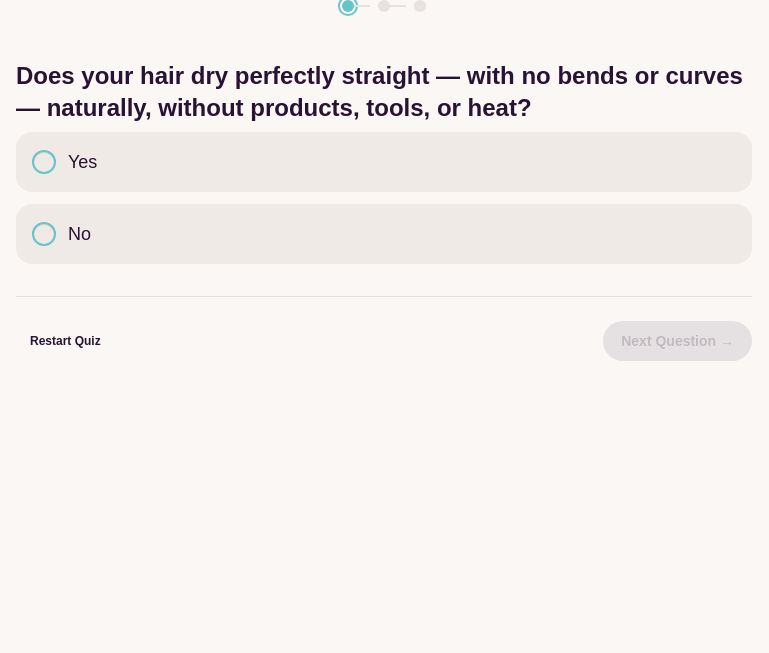
Scenario: NewQuiz Component › Quiz flow - Curls path › Curls path asks for shrinkage when no additional patterns
Expected: the heading "Does your hair dry perfectly straight" is shown, left=16, top=62, right=743, bottom=121
Step 1. Click the radio button labelled "No" → click(44, 234), box left=32, top=222, right=56, bottom=246
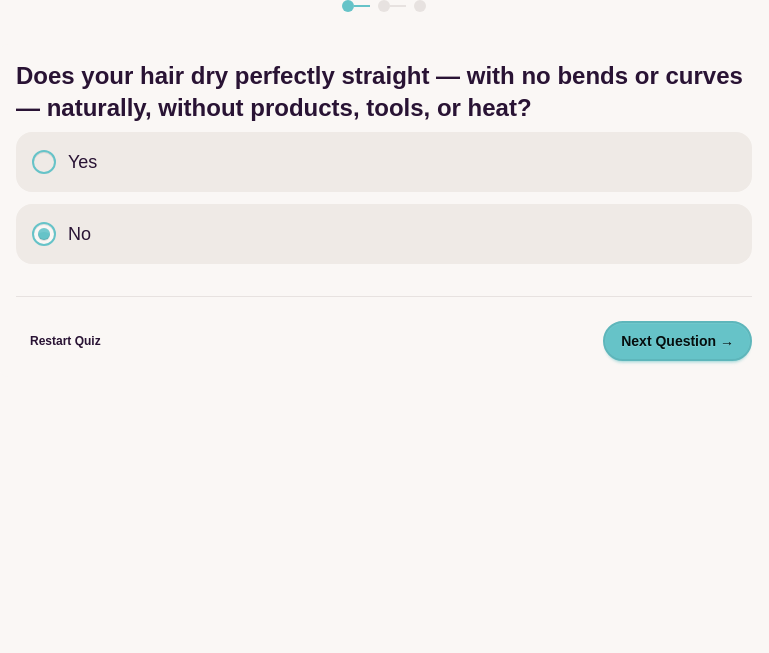
Step 2. Click the button "Next Question →" → click(678, 341), box left=603, top=321, right=752, bottom=361
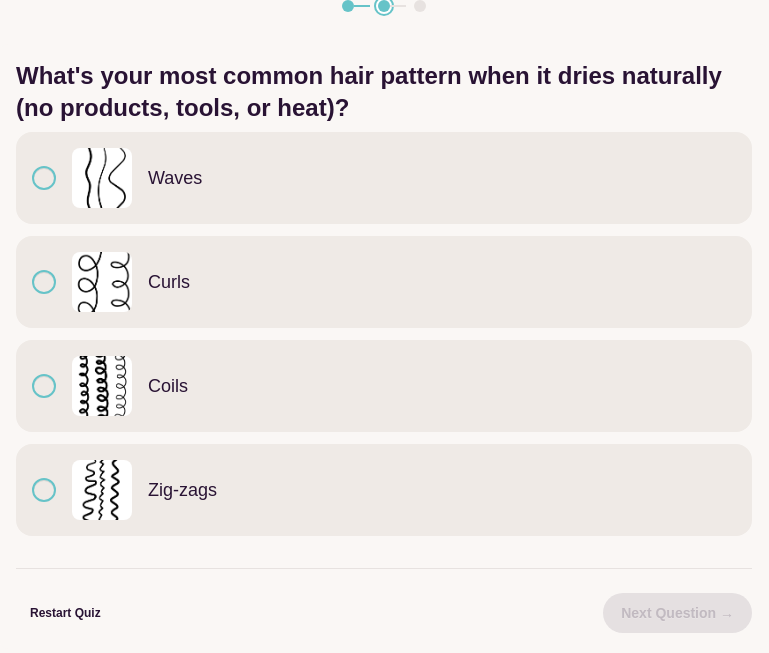
Expected: the heading "What's your most common hair pattern" is shown, left=16, top=62, right=722, bottom=121
Step 3. Click the radio button labelled "Curls" → click(44, 282), box left=32, top=270, right=56, bottom=294
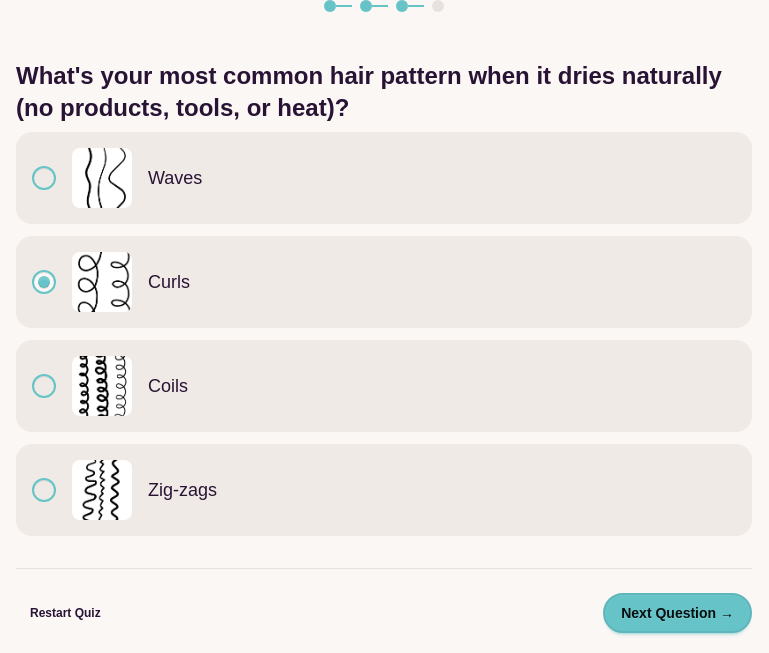
Step 4. Click the button "Next Question →" → click(678, 613), box left=603, top=593, right=752, bottom=633
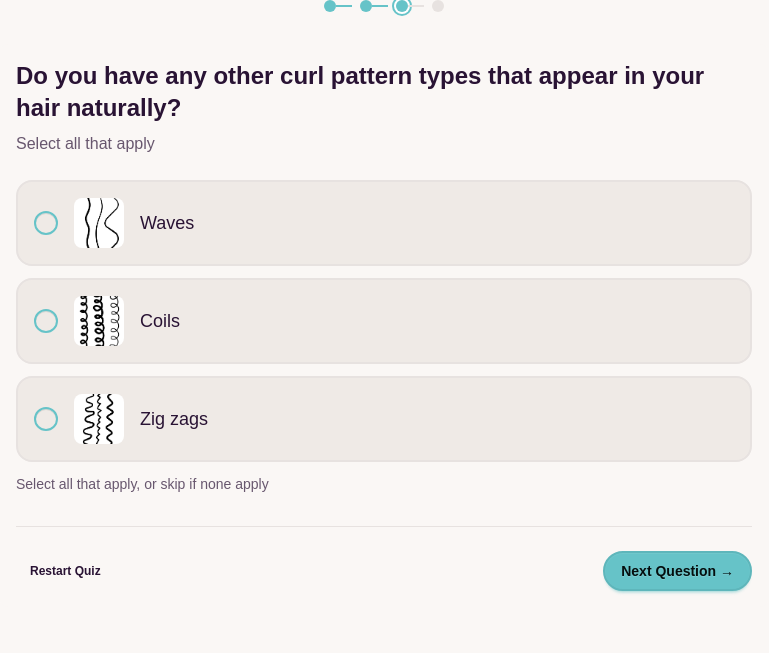
Expected: the heading "Do you have any other curl pattern types" is shown, left=16, top=62, right=704, bottom=121
Step 5. Click the button "Next Question →" → click(678, 571), box left=603, top=551, right=752, bottom=591
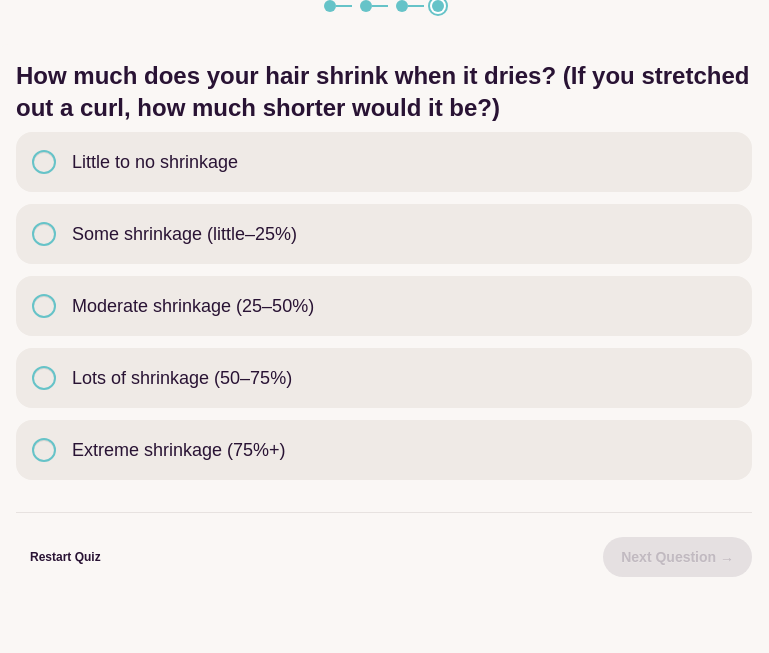
Expected: the heading "How much does your hair shrink" is shown, left=16, top=62, right=750, bottom=121
